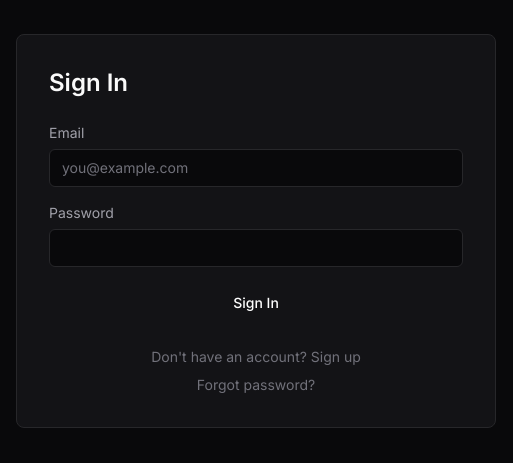
Scenario: LoginPage › shows error on invalid credentials
Type "test@example.com" into the field labelled "Email".
click(256, 168); type("test@example.com")  # box x1=49 y1=149 x2=463 y2=187
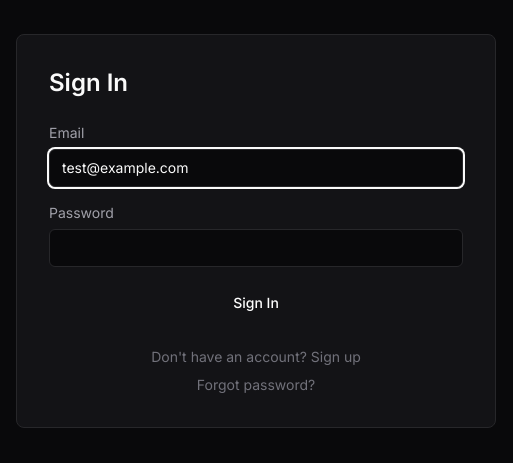
Type "wrongpass" into the password field labelled "Password".
click(256, 248); type("wrongpass")  # box x1=49 y1=229 x2=463 y2=267
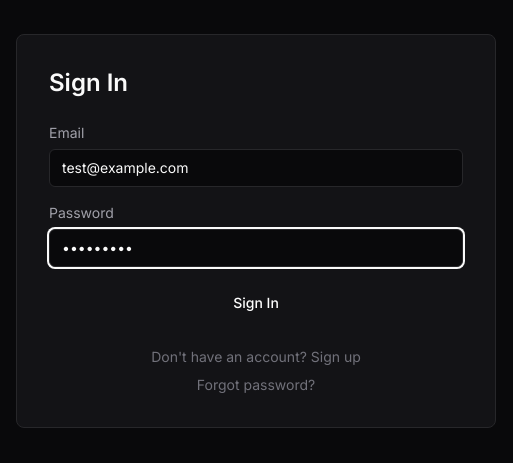
Click the button "Sign In".
click(256, 303)  # box x1=49 y1=283 x2=463 y2=323
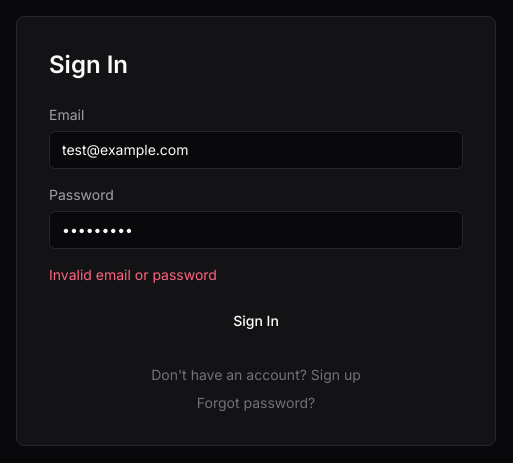
expect the text "Invalid email or password" is shown: met, box x1=49 y1=266 x2=217 y2=283
